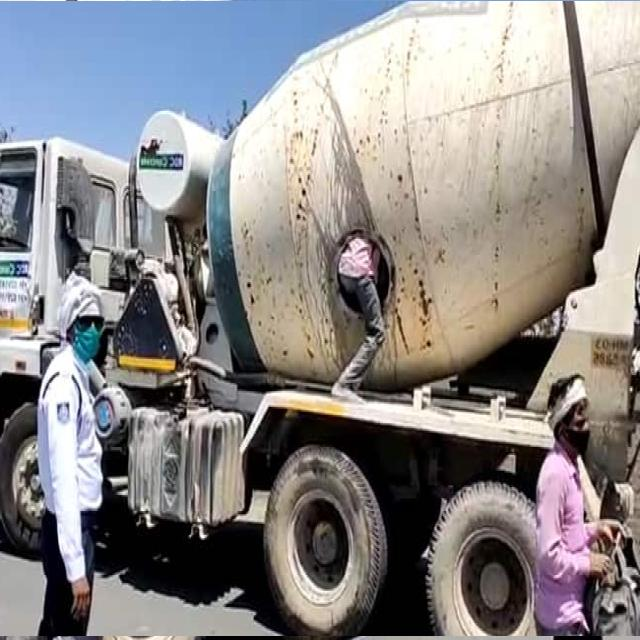truck: (0, 2, 640, 636)
